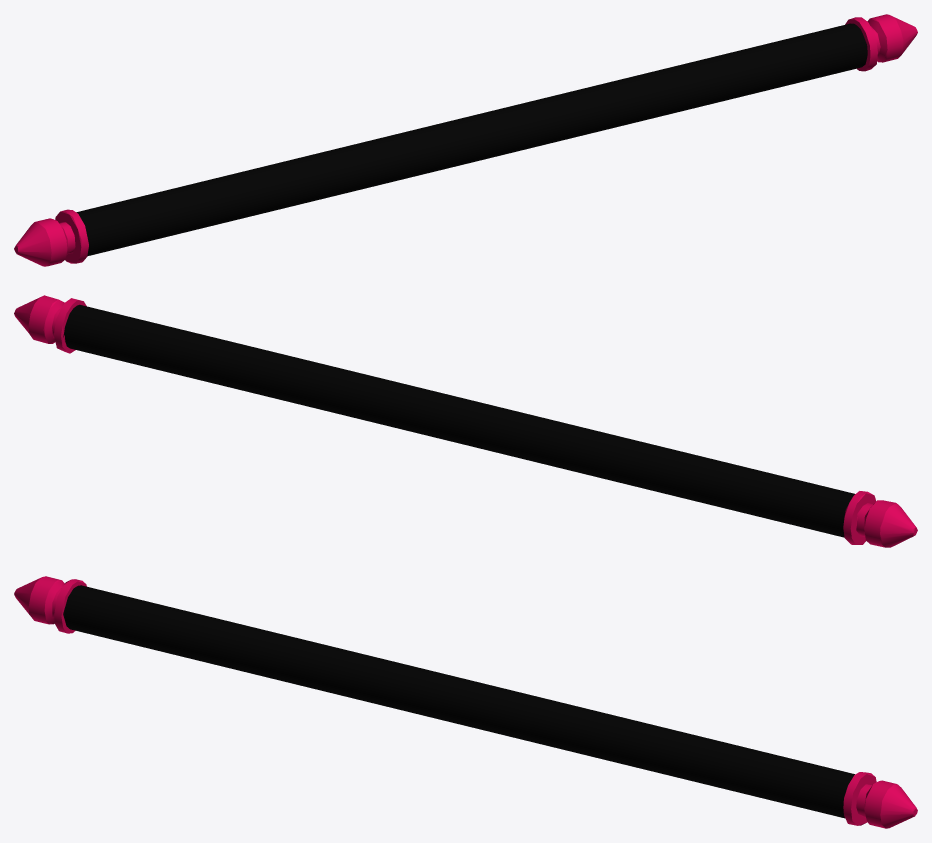
The model's file is SM_Banner_Rod.fbx.
3 renders of one model, top to bottom at view 1: azimuth 30°, elevation 25°; view 2: azimuth 150°, elevation 25°; view 3: azimuth 330°, elevation 25°, orthographic.
Visible parts, largest first — view 1: SM_Banner_Rod; view 2: SM_Banner_Rod; view 3: SM_Banner_Rod.
Part boxes in pixels (x1,y1,x2,y2): SM_Banner_Rod: (14, 14, 917, 266); SM_Banner_Rod: (14, 295, 917, 547); SM_Banner_Rod: (14, 576, 917, 828).
Size of the model in its own units: 230 by 12.25 by 12.1.
